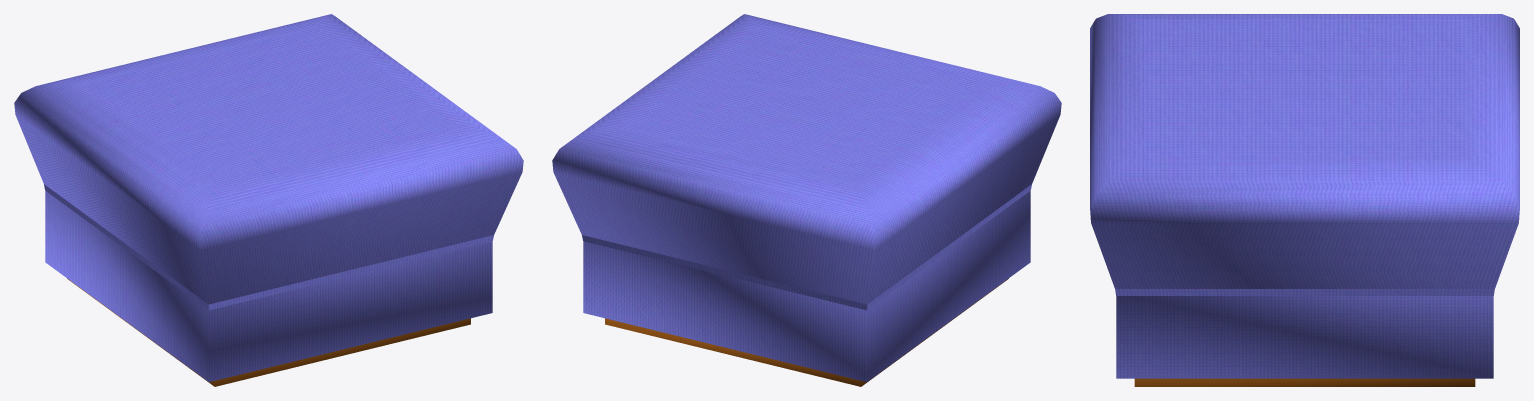
File: sofa (copy).glb
The picture shows the model from 3 angles, left to right: view 1: azimuth 30°, elevation 25°; view 2: azimuth 150°, elevation 25°; view 3: azimuth 270°, elevation 25°; orthographic projection. The views are drawn at different scales.
Visible parts, largest first — view 1: Cube; view 2: Cube; view 3: Cube.
Boxes of the visible parts, x1=… form: Cube: x1=14, y1=14, x2=523, y2=386; Cube: x1=552, y1=14, x2=1061, y2=386; Cube: x1=1090, y1=14, x2=1519, y2=386.
Bounding box in the file's own units: 2.59 × 1.51 × 2.59.
2 materials, 1 textured.
